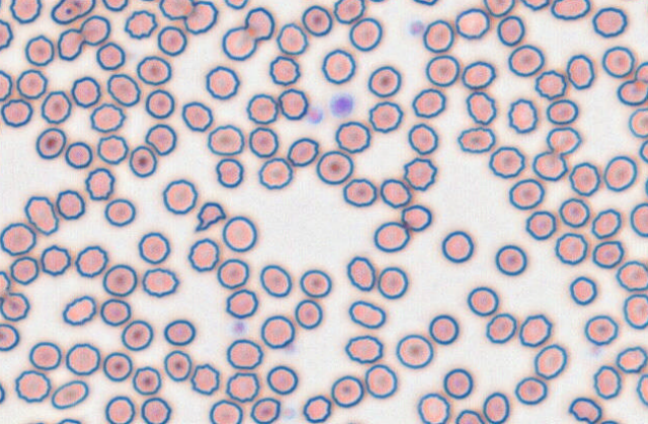PLT: (329, 92, 356, 119), (308, 104, 325, 125), (228, 319, 249, 336), (408, 19, 424, 37), (282, 405, 297, 421)
RBC: (24, 195, 59, 235), (395, 333, 433, 369), (315, 150, 353, 185), (222, 215, 257, 252), (162, 178, 197, 214), (14, 369, 51, 403), (205, 65, 240, 100), (260, 314, 295, 349), (0, 222, 36, 256), (321, 48, 355, 84), (533, 343, 567, 379), (603, 155, 637, 191), (488, 145, 525, 178), (221, 26, 256, 60), (402, 157, 437, 191), (102, 263, 137, 297), (334, 120, 370, 153), (507, 44, 544, 76), (344, 334, 383, 364), (184, 0, 218, 34), (348, 17, 382, 51), (518, 313, 552, 347), (65, 342, 100, 375), (368, 100, 403, 133), (364, 363, 397, 398), (508, 178, 544, 210), (257, 157, 293, 189), (226, 338, 263, 369), (207, 124, 244, 155), (141, 267, 179, 297), (106, 73, 140, 106), (74, 245, 108, 278), (601, 45, 635, 78), (592, 6, 627, 38), (568, 161, 600, 196), (373, 221, 409, 252), (51, 379, 88, 409), (348, 299, 385, 329), (137, 231, 170, 264), (554, 232, 587, 265), (441, 230, 474, 263), (259, 264, 292, 297), (455, 7, 489, 39), (422, 19, 454, 53), (465, 91, 497, 125), (187, 237, 219, 271), (425, 54, 459, 86), (367, 65, 401, 97), (330, 375, 364, 407), (532, 150, 567, 181), (50, 0, 95, 24), (89, 102, 125, 132), (565, 53, 595, 89), (457, 125, 495, 153), (276, 22, 308, 55), (120, 319, 153, 351), (494, 244, 527, 276), (225, 371, 259, 402), (416, 392, 450, 423), (40, 90, 71, 124), (584, 314, 618, 345), (342, 177, 377, 207), (507, 98, 537, 133), (136, 55, 171, 85), (411, 88, 446, 118), (545, 126, 581, 155), (346, 255, 375, 291), (84, 167, 115, 200), (407, 122, 438, 155), (216, 258, 249, 289), (377, 266, 408, 299), (244, 6, 274, 40), (123, 9, 157, 39), (62, 295, 96, 325), (615, 260, 647, 291), (301, 4, 332, 36), (35, 127, 66, 159), (70, 76, 101, 108), (40, 244, 71, 276), (277, 88, 308, 120), (181, 101, 213, 132), (442, 367, 473, 399), (246, 93, 278, 124), (485, 312, 516, 344), (225, 288, 258, 318), (461, 60, 495, 89), (592, 365, 621, 399), (79, 14, 110, 45), (16, 68, 47, 99), (248, 126, 279, 157), (428, 314, 459, 345), (379, 178, 411, 208), (534, 69, 566, 99), (190, 363, 220, 395), (268, 55, 300, 85), (558, 197, 590, 227), (24, 34, 54, 66), (96, 134, 128, 164), (466, 286, 498, 316), (266, 365, 298, 395), (128, 144, 157, 177), (0, 98, 33, 127), (286, 137, 319, 166), (514, 376, 547, 405), (28, 341, 61, 370), (102, 351, 132, 382), (157, 25, 187, 56), (591, 208, 621, 239), (55, 189, 85, 220), (144, 88, 174, 119), (525, 210, 556, 240), (299, 269, 331, 298), (0, 291, 30, 321), (622, 293, 647, 329), (163, 350, 192, 381), (496, 15, 525, 46), (615, 345, 647, 373), (592, 240, 624, 268), (163, 318, 195, 346), (103, 198, 135, 226), (545, 98, 578, 125), (132, 365, 161, 395), (9, 256, 39, 285), (95, 41, 125, 70), (104, 395, 135, 423), (100, 298, 131, 326), (400, 204, 432, 231), (482, 391, 509, 423), (302, 394, 331, 423), (569, 275, 597, 305), (294, 299, 322, 329), (616, 79, 647, 106), (208, 399, 242, 423), (140, 397, 171, 423), (249, 397, 280, 423), (550, 0, 590, 20), (64, 141, 92, 169), (9, 0, 41, 24), (333, 0, 364, 24), (158, 0, 193, 20), (629, 202, 647, 237), (628, 107, 647, 138), (0, 322, 19, 351), (482, 0, 514, 17), (454, 409, 484, 423), (0, 18, 13, 50), (0, 69, 12, 101), (636, 373, 647, 406), (520, 0, 549, 11), (634, 61, 647, 84), (0, 270, 11, 297), (101, 0, 128, 11), (638, 138, 647, 163), (223, 0, 248, 9), (55, 417, 81, 423), (412, 0, 438, 6), (597, 419, 619, 424), (0, 382, 5, 404), (643, 0, 648, 21), (0, 145, 3, 177), (644, 174, 648, 198), (367, 0, 389, 3), (136, 0, 161, 2), (619, 0, 642, 2)
Schistocyte: (195, 201, 227, 233), (57, 29, 84, 62), (569, 397, 602, 424), (217, 158, 245, 189)
